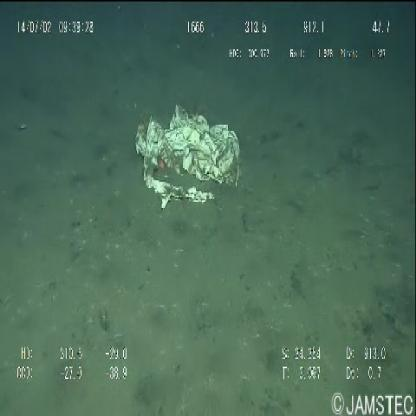Rác: (128, 92, 258, 233)
